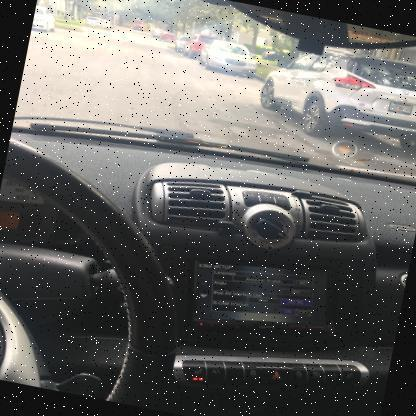License-Plate: (387, 101, 412, 115), (89, 21, 94, 24), (167, 37, 171, 40)
